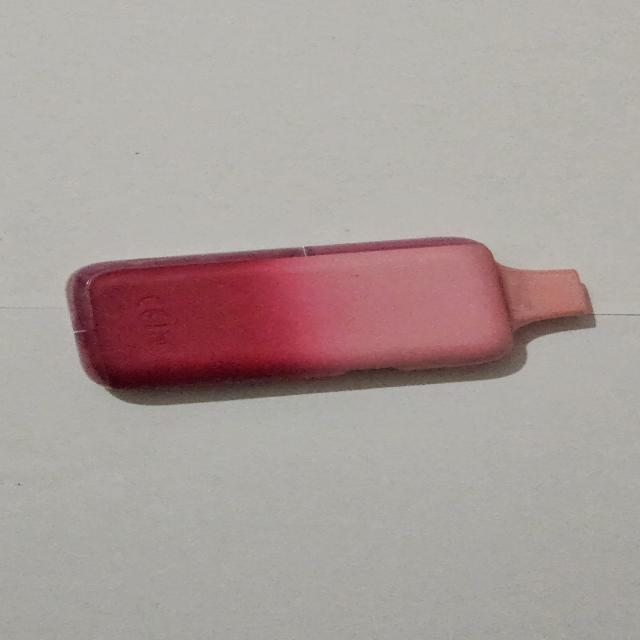Hazard: (65, 235, 594, 392)
